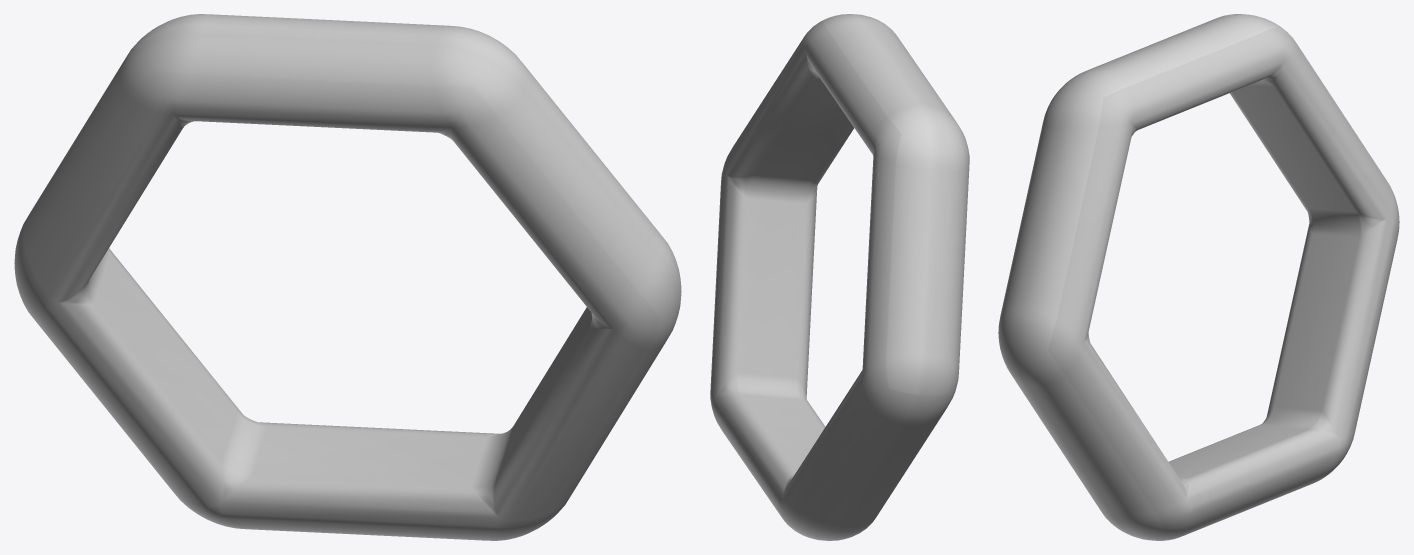
Rendered from NuovoSitoEsagonoMenuSimXSoftware.gltf.
3 renders of one model, left to right at view 1: azimuth 30°, elevation 25°; view 2: azimuth 150°, elevation 25°; view 3: azimuth 270°, elevation 25°, orthographic. The views are drawn at different scales.
Visible parts, largest first — view 1: Easgono Menu Sim-X 01 - Software; view 2: Easgono Menu Sim-X 01 - Software; view 3: Easgono Menu Sim-X 01 - Software.
Boxes of the visible parts, x1,y1,x2,y2 form: Easgono Menu Sim-X 01 - Software: [14, 14, 681, 540]; Easgono Menu Sim-X 01 - Software: [710, 14, 969, 540]; Easgono Menu Sim-X 01 - Software: [998, 14, 1399, 540].
Bounding box in the file's own units: 1.22 × 1.38 × 1.14.
Materials: 1 (1 with a texture image).
